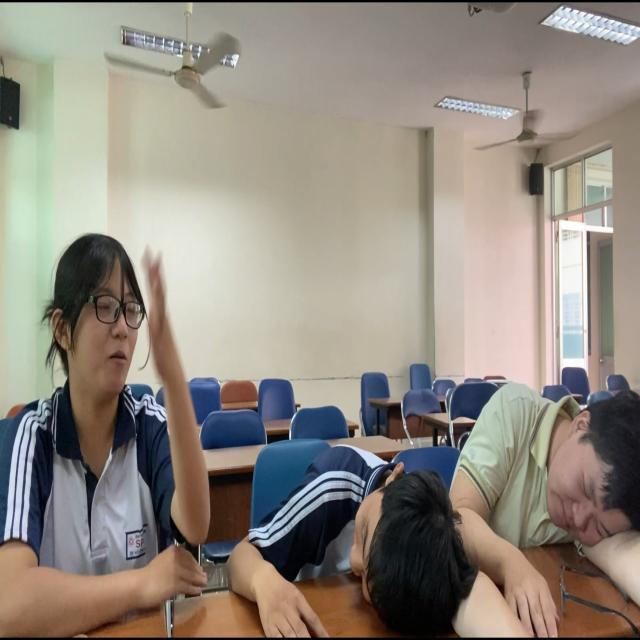raise_hand: (1, 224, 214, 640)
sleep: (226, 451, 477, 640), (463, 377, 640, 618)
